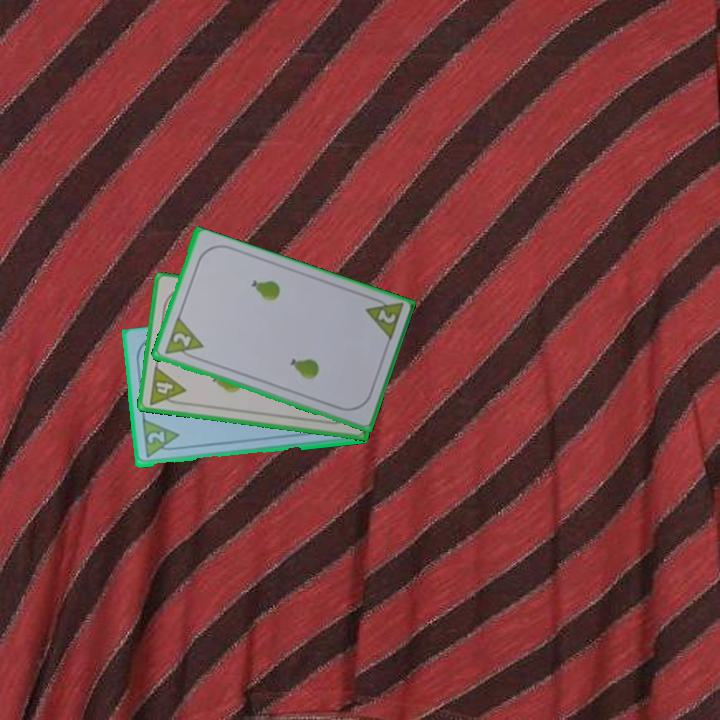2p: (361, 292, 406, 344), (169, 329, 194, 350), (144, 428, 167, 448)
4p: (145, 363, 188, 408)
